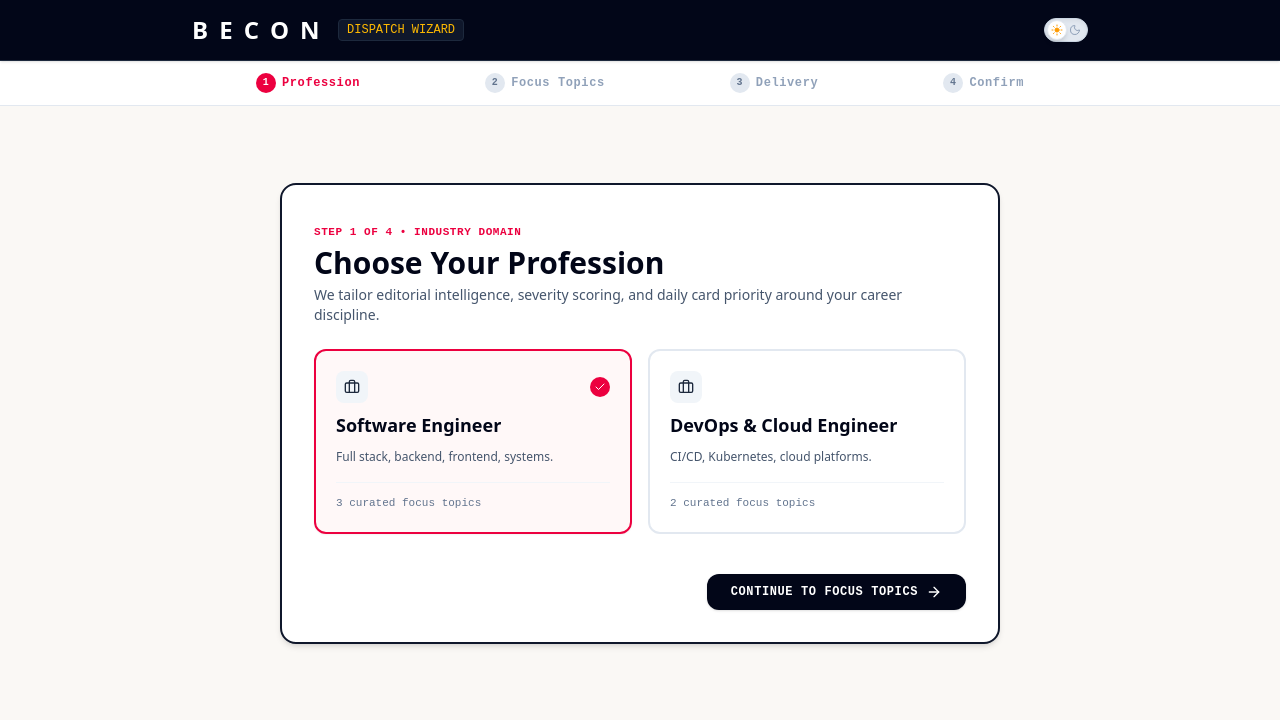
DB-Driven Onboarding Wizard (F5) › loads professions from /api/professions and executes 4-step wizard
Later steps or results of the test are not shown.
Expected: the element with test id "onboarding-step-1" is shown, [314,216,966,610]
Expected: the heading "Software Engineer" is shown, [336,412,501,436]
# Select "DevOps & Cloud Engineer"
Click the heading "DevOps & Cloud Engineer" at {"x": 784, "y": 424}, box [670,412,897,436]
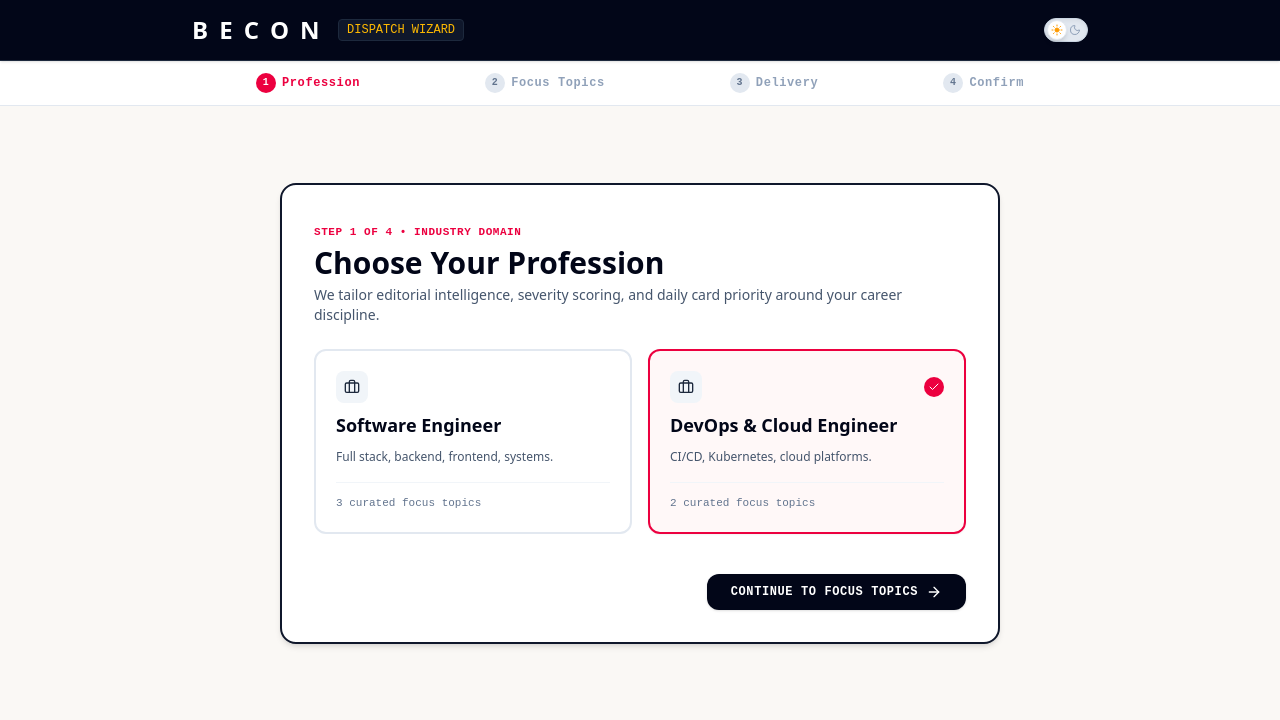
# Advance to Step 2
Click the button with test id "onboarding-next-button" at {"x": 836, "y": 592}, box [707,574,966,610]
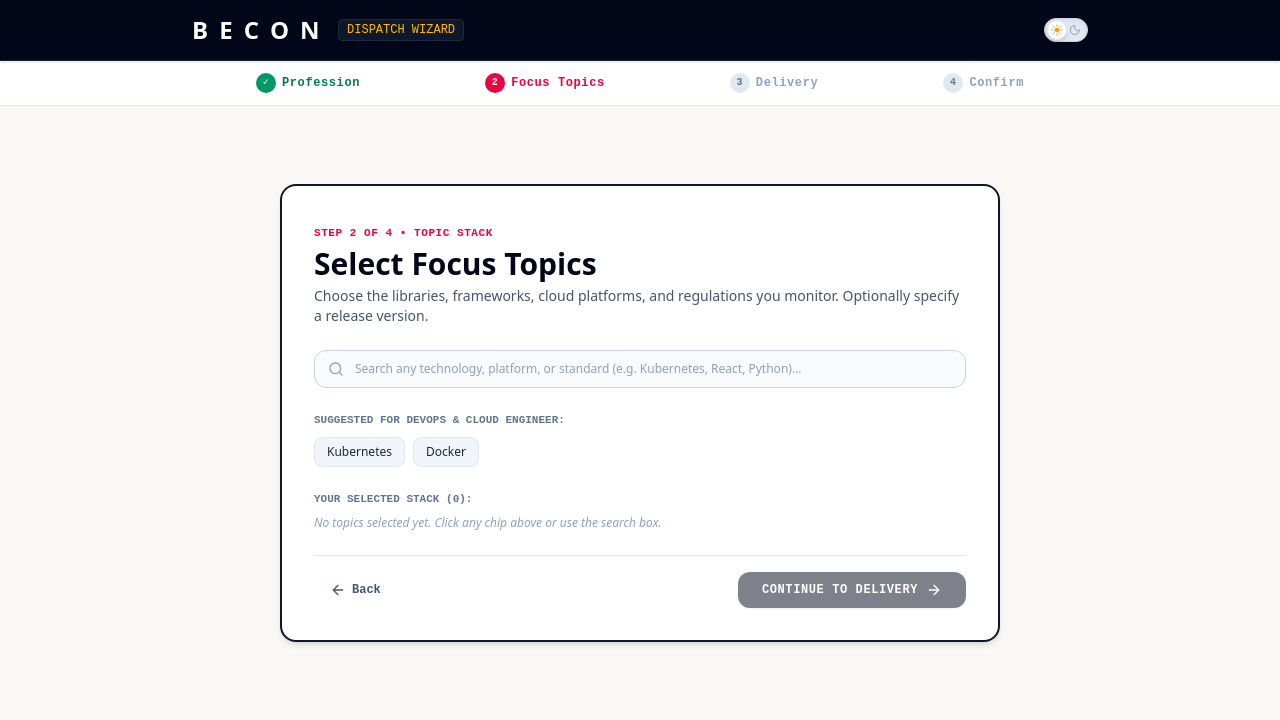
Expected: the text "Kubernetes" is shown, [327,444,392,460]
Now the element with test id "onboarding-step-2" is shown, box [314,218,966,608]
Now the text "Docker" is shown, box [426,444,466,460]
# Toggle Kubernetes chip
Click the button with test id "topic-chip-Kubernetes" at {"x": 360, "y": 452}, box [314,436,405,466]
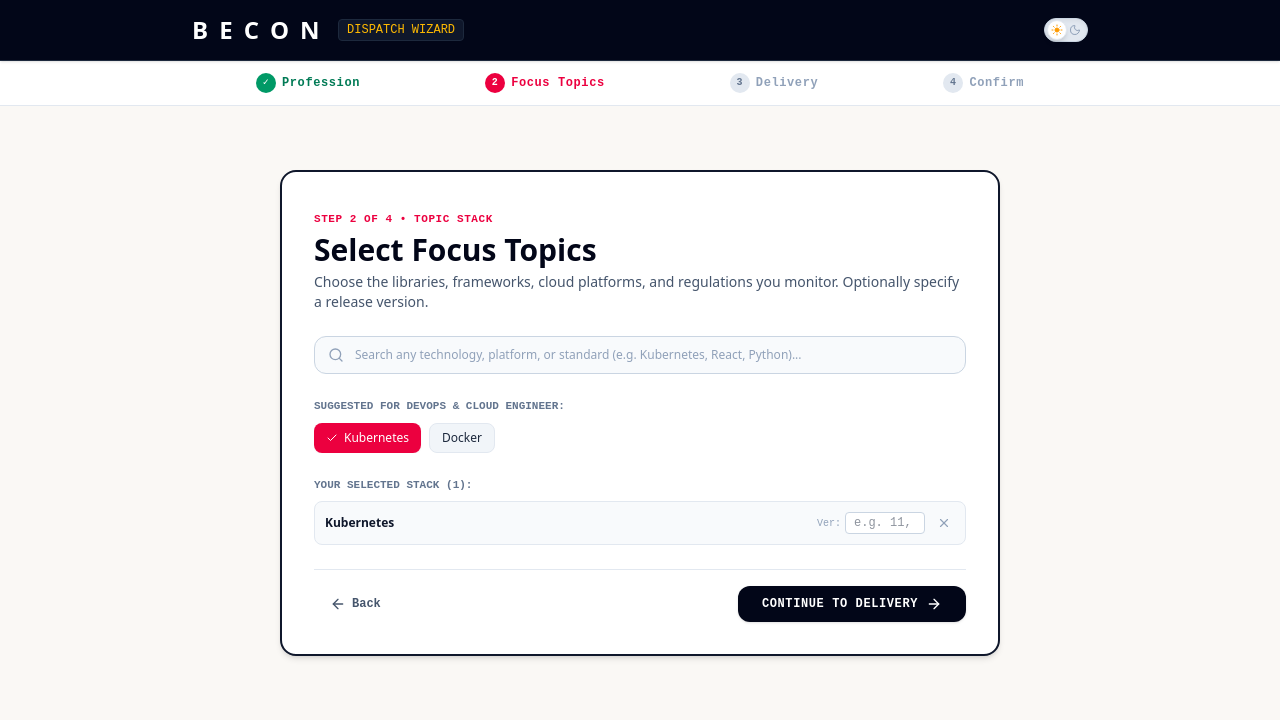
# Enter optional version for Kubernetes
Type "1.32" into the field with test id "topic-version-input-Kubernetes" at {"x": 885, "y": 523}, box [845,512,925,534]
# Advance to Step 3
Click the button with test id "onboarding-next-button" at {"x": 852, "y": 604}, box [738,586,966,622]
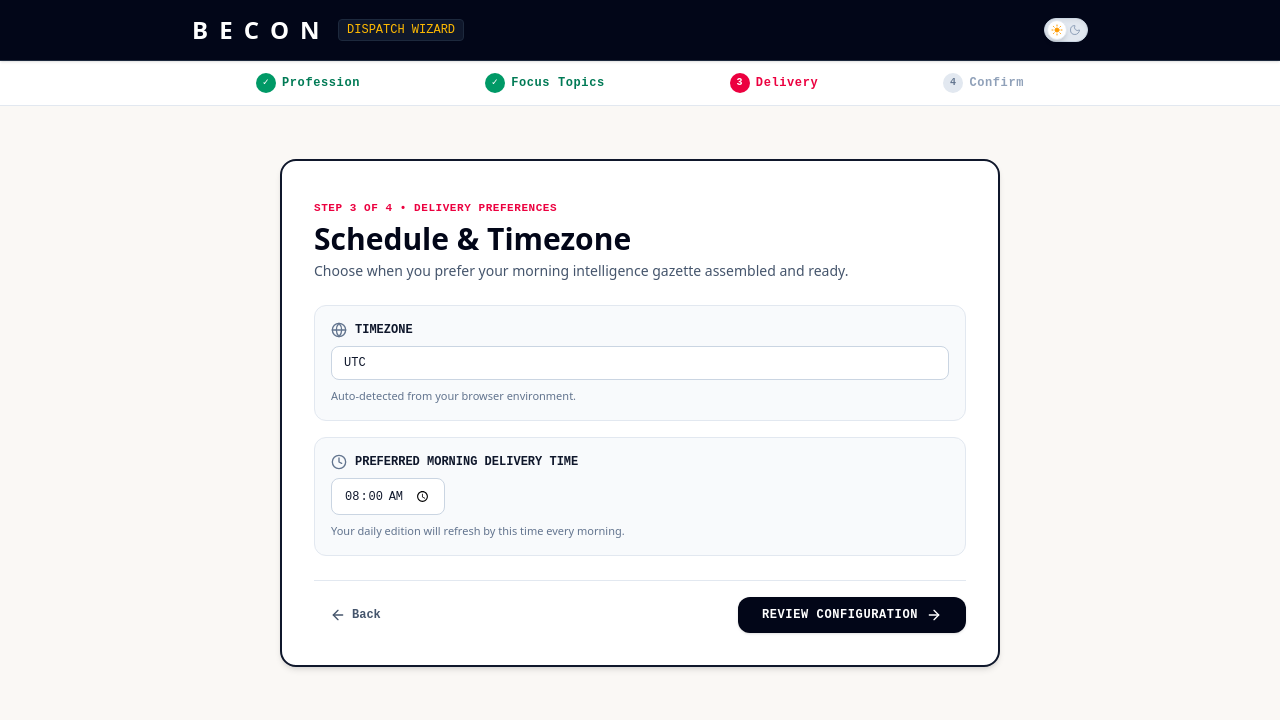
Now the element with test id "onboarding-step-3" is shown, box [314,193,966,633]
# Set delivery time
Replace the text in the time field showing "08:00" with "09:30" at {"x": 388, "y": 496}, box [331,478,445,515]
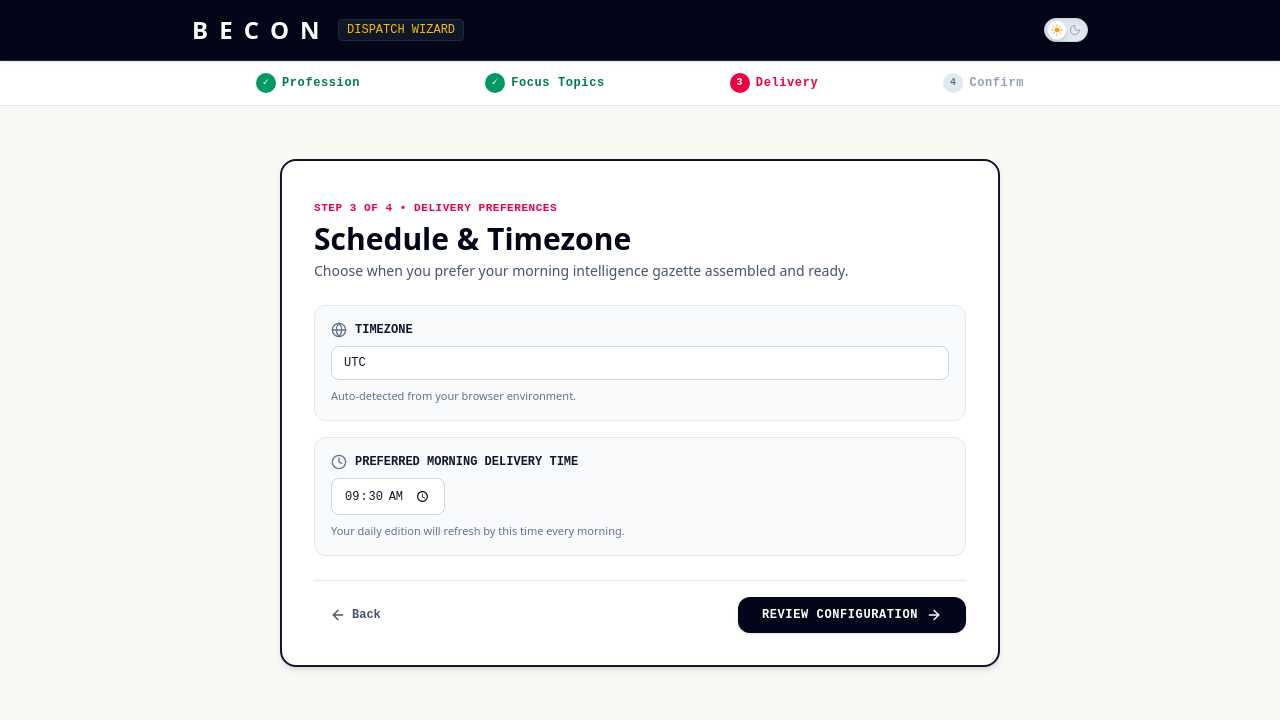
# Advance to Step 4
Click the button with test id "onboarding-next-button" at {"x": 852, "y": 615}, box [738,597,966,633]
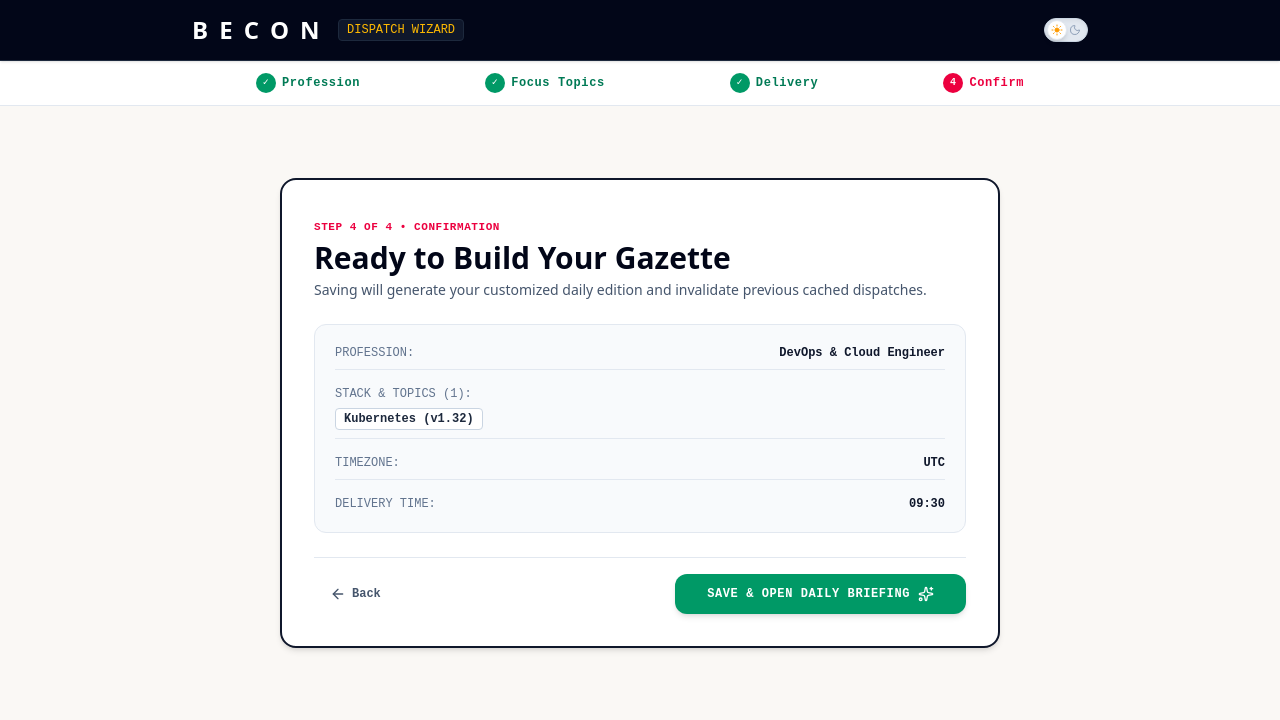
Now the element with test id "onboarding-step-4" is shown, box [314,212,966,614]
Now the text "DevOps & Cloud Engineer" is shown, box [779,345,945,361]
Now the text "09:30" is shown, box [909,496,945,512]
